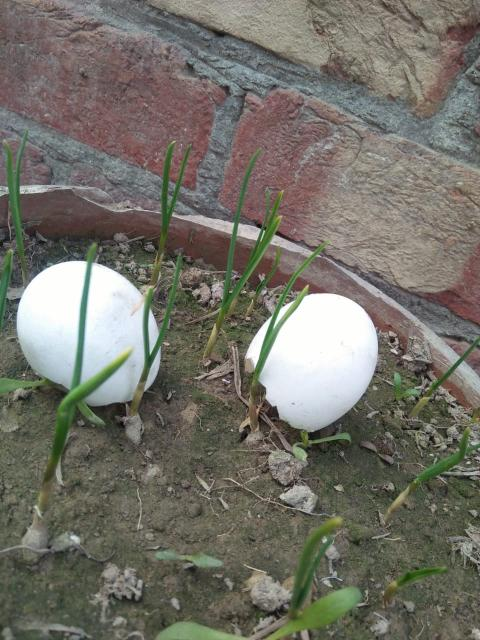Roto: (16, 260, 162, 408), (243, 292, 378, 432)
